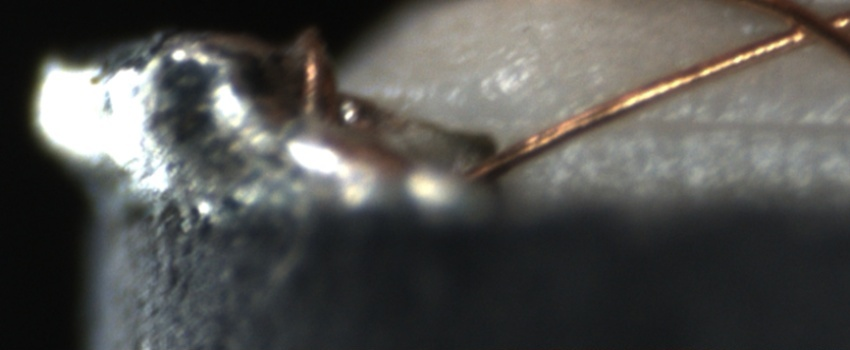CL: (761, 3, 847, 54)
DL: (572, 96, 850, 160)
TE: (293, 28, 343, 123)
